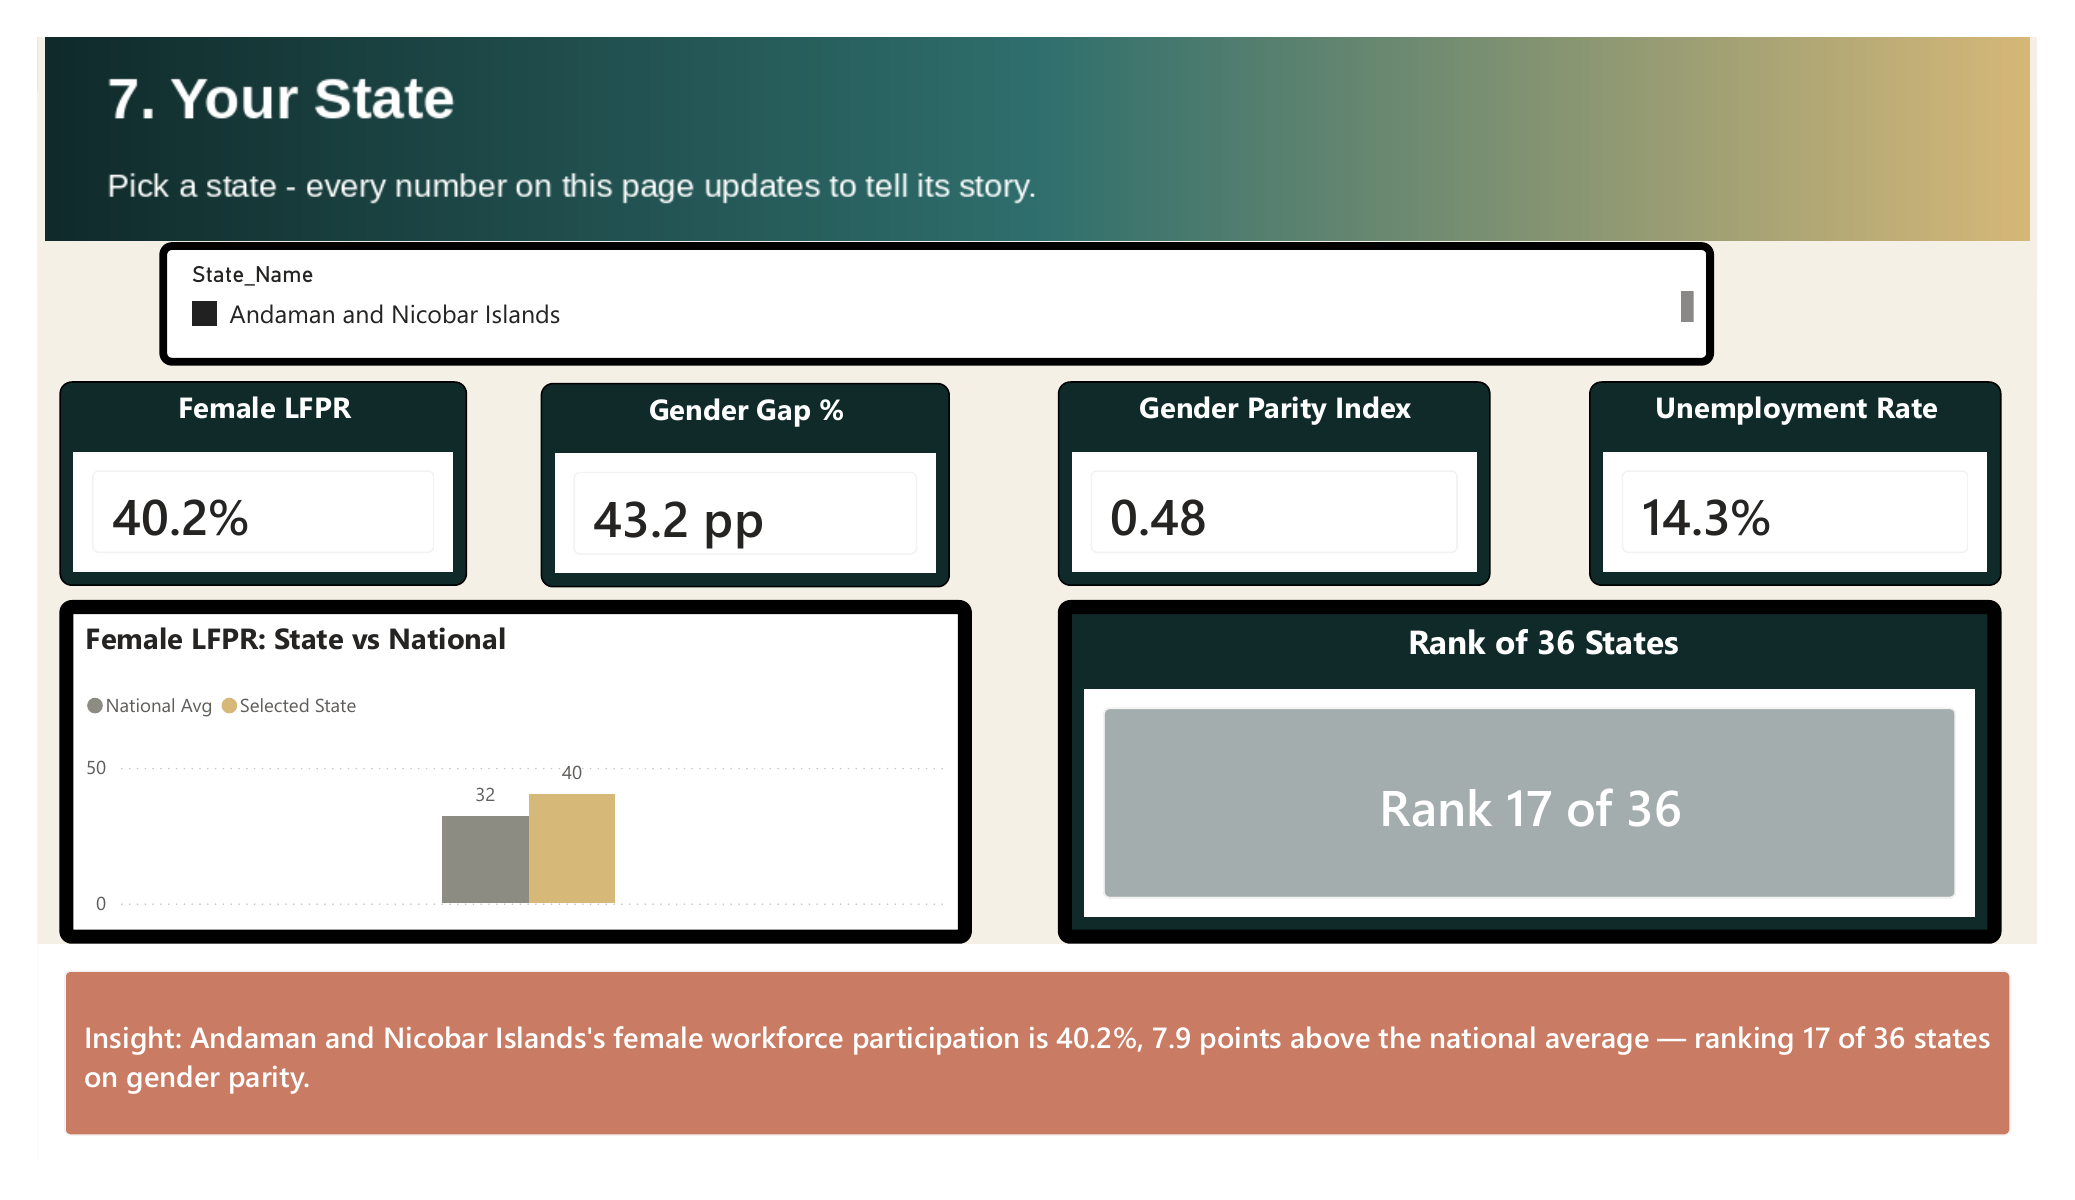

The page's visual inventory and layout, read from the dashboard file:
{"tool":"powerbi","page":{"name":"7. Your State.","canvas":[1280,720],"ordinal":7},"visuals":[{"type":"image","box":[0,0,1280,130.3],"z":0},{"type":"cardVisual","title":"Female LFPR","fields":{"Data":["_Measures.Female_LFPR"]},"box":[14.5,219.6,260.6,131.5],"z":1000},{"type":"cardVisual","title":"Gender Gap %","fields":{"Data":["_Measures.Gender_Gap_Percent_Display"]},"box":[322.1,220.8,261.8,131.5],"z":2000},{"type":"cardVisual","title":"Gender Parity Index","fields":{"Data":["_Measures.Gender_Parity_Index"]},"box":[652.7,219.6,277.5,131.5],"z":3000},{"type":"cardVisual","title":"Unemployment Rate","fields":{"Data":["_Measures.Unemployment_Rate"]},"box":[992.9,219.6,264.2,131.5],"z":4000},{"type":"slicer","fields":{"Values":["State_Lookup.State_Name"]},"box":[78.1,130.6,994.8,79.4],"z":5000},{"type":"clusteredColumnChart","title":"Female LFPR: State vs National","fields":{"Y":["_Measures.Female_LFPR_National","_Measures.Female_LFPR_Raw"]},"box":[14.1,359.8,583.8,220.2],"z":6000},{"type":"cardVisual","title":"Rank of 36 States","fields":{"Data":["_Measures.State_Rank_Display"]},"box":[652.9,359.8,604.3,220.2],"z":7000},{"type":"cardVisual","fields":{"Data":["_Measures.Page7_Insight_Text"]},"box":[0,580.5,1280.5,139],"z":8000}]}

Visuals, with their boxes in screenshot pixels (x1, y1, x2, y2):
image: pyautogui.locateOnScreen(49, 38, 2022, 239)
"Female LFPR" cardVisual: pyautogui.locateOnScreen(71, 376, 473, 579)
"Gender Gap %" cardVisual: pyautogui.locateOnScreen(545, 378, 949, 581)
"Gender Parity Index" cardVisual: pyautogui.locateOnScreen(1055, 376, 1483, 579)
"Unemployment Rate" cardVisual: pyautogui.locateOnScreen(1580, 376, 1987, 579)
slicer - State_Lookup.State_Name: pyautogui.locateOnScreen(169, 239, 1703, 362)
"Female LFPR: State vs National" clusteredColumnChart: pyautogui.locateOnScreen(70, 593, 971, 932)
"Rank of 36 States" cardVisual: pyautogui.locateOnScreen(1055, 593, 1987, 932)
cardVisual - _Measures.Page7_Insight_Text: pyautogui.locateOnScreen(49, 933, 2023, 1147)
